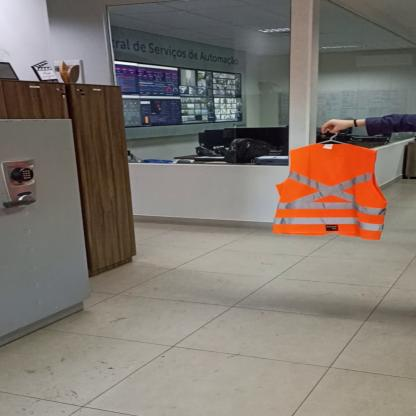colete: (270, 141, 386, 241)
